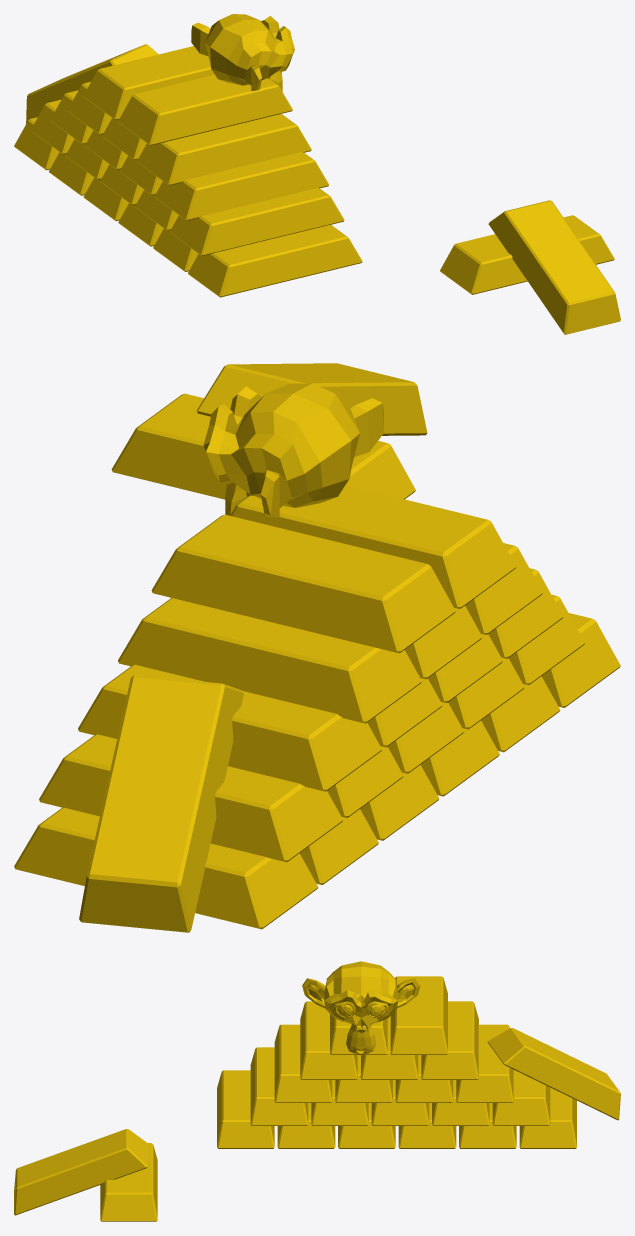
Rendered from Gold.fbx.
3 renders of one model, top to bottom at view 1: azimuth 30°, elevation 25°; view 2: azimuth 150°, elevation 25°; view 3: azimuth 270°, elevation 25°, orthographic. The views are drawn at different scales.
Visible parts, largest first — view 1: Cube, Cube.004, Cube.001, Cube.007, Cube.002, Cube.003, Suzanne, Cube.006, Cube.005; view 2: Cube.004, Cube.005, Cube, Cube.003, Cube.001, Cube.002, Suzanne, Cube.006, Cube.007; view 3: Cube, Cube.001, Cube.002, Cube.003, Cube.007, Suzanne, Cube.005, Cube.004, Cube.006.
Part boxes in pixels (x1,y1,x2,y2): Cube: [14, 117, 362, 297]; Cube.004: [83, 46, 292, 145]; Cube.001: [30, 99, 344, 255]; Cube.007: [488, 200, 620, 334]; Cube.002: [50, 90, 328, 220]; Cube.003: [67, 81, 311, 185]; Suzanne: [191, 14, 294, 91]; Cube.006: [440, 215, 614, 294]; Cube.005: [26, 44, 158, 123]; Cube.004: [151, 485, 516, 653]; Cube.005: [79, 675, 243, 932]; Cube: [14, 613, 620, 929]; Cube.003: [118, 543, 542, 723]; Cube.001: [39, 594, 584, 862]; Cube.002: [78, 568, 563, 791]; Suzanne: [203, 383, 383, 517]; Cube.006: [111, 393, 415, 499]; Cube.007: [197, 363, 427, 435]; Cube: [217, 1070, 576, 1148]; Cube.001: [250, 1047, 550, 1125]; Cube.002: [274, 1024, 513, 1102]; Cube.003: [300, 1001, 478, 1079]; Cube.007: [14, 1129, 147, 1215]; Suzanne: [302, 961, 419, 1055]; Cube.005: [487, 1028, 620, 1120]; Cube.004: [330, 976, 447, 1054]; Cube.006: [100, 1143, 157, 1221].
Size of the model in its own units: 775 by 443 by 1405.
